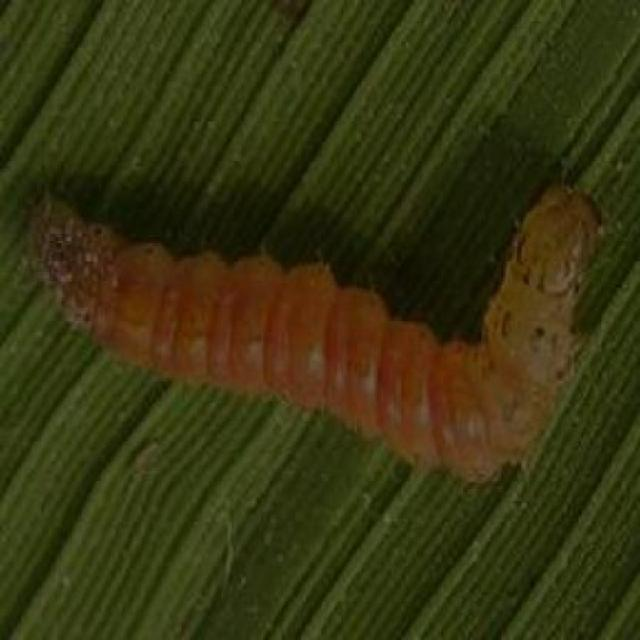leaf-folder: (27, 129, 610, 485)
